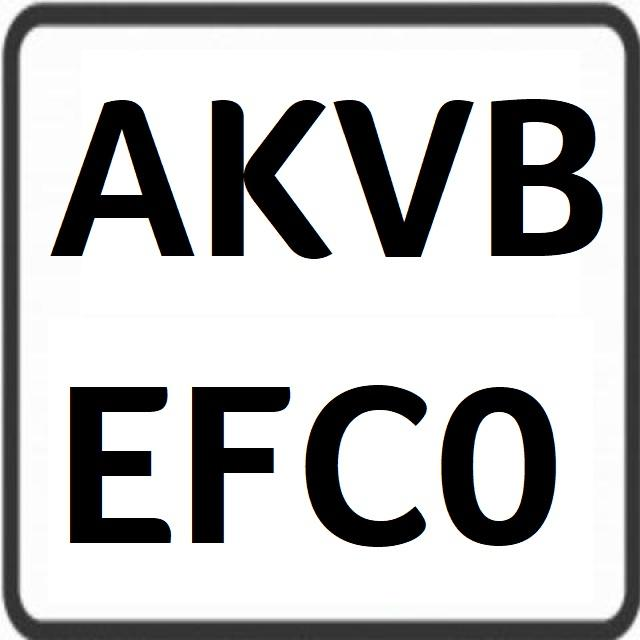A: (48, 71, 201, 292)
B: (485, 88, 611, 275)
C: (307, 364, 432, 554)
E: (62, 348, 186, 559)
F: (190, 360, 294, 553)
K: (204, 64, 337, 278)
V: (336, 65, 478, 276)
